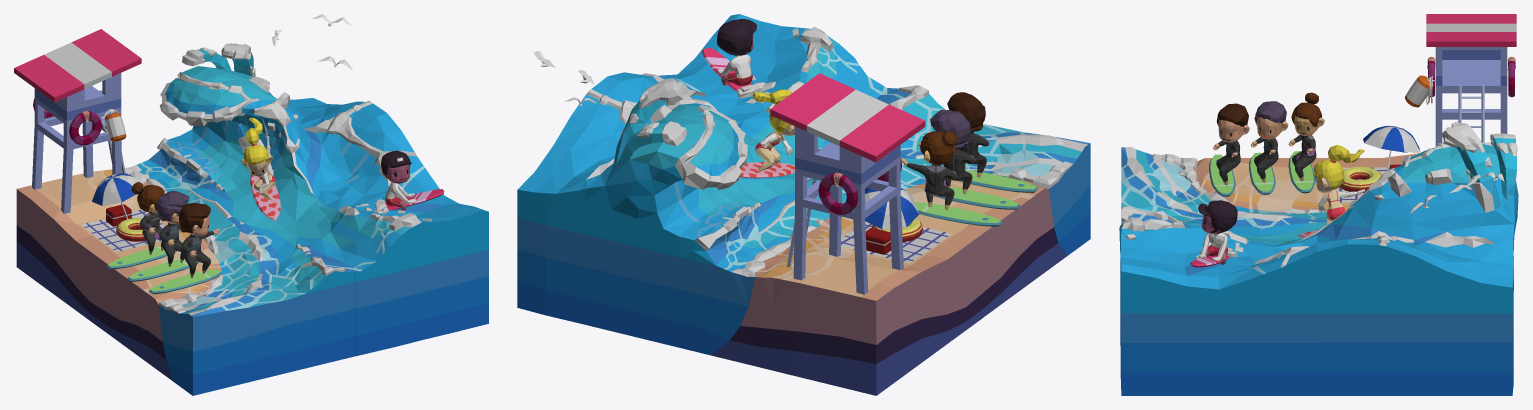
File: 0049_surfing.fbx
3 renders of one model, left to right at view 1: azimuth 30°, elevation 25°; view 2: azimuth 150°, elevation 25°; view 3: azimuth 270°, elevation 25°, orthographic. The views are drawn at different scales.
Parts seen in each view (by area): view 1: Sea_C, Sea_D, Sea_A, Sea_B, machan_1, Surfboard_green (×3), parasol_2, Mat, woman_B_Head, Man_A_Head, Man_C_Head, Man_B_Head (+11 smaller); view 2: Sea_B, Sea_A, Sea_C, machan_1, Sea_D, Surfboard_green (×3), Sea_F, Sea_E, Mat, Man_C_Head, parasol_2, Tube (+11 smaller); view 3: Sea_A, Sea_D, Sea_C, machan_1, Sea_F, Surfboard_green (×3), woman_B_Head, Sea_E, parasol_2, Man_C_Head, Man_A_Head, Man_B_Head (+9 smaller).
Boxes of the visible parts, x1,y1,x2,y2 form: Sea_C: [104, 215, 355, 395]; Sea_D: [275, 129, 488, 356]; Sea_A: [159, 66, 400, 205]; Sea_B: [16, 136, 264, 331]; machan_1: [14, 29, 141, 213]; Surfboard_green (×3): [106, 246, 221, 294]; parasol_2: [92, 173, 143, 205]; Mat: [81, 209, 179, 251]; woman_B_Head: [240, 117, 272, 176]; Man_A_Head: [179, 203, 210, 235]; Man_C_Head: [381, 150, 411, 183]; Man_B_Head: [156, 190, 189, 223]; Sea_B: [679, 175, 983, 395]; Sea_A: [517, 72, 785, 347]; Sea_C: [786, 85, 1090, 316]; machan_1: [770, 73, 925, 294]; Sea_D: [624, 14, 892, 165]; Surfboard_green (×3): [915, 169, 1037, 226]; Sea_F: [614, 78, 687, 164]; Sea_E: [617, 121, 686, 166]; Mat: [841, 221, 951, 262]; Man_C_Head: [717, 19, 756, 55]; parasol_2: [865, 188, 919, 229]; Tube: [818, 172, 858, 214]; Sea_A: [1317, 142, 1518, 395]; Sea_D: [1119, 217, 1317, 395]; Sea_C: [1121, 147, 1317, 239]; machan_1: [1426, 14, 1516, 146]; Sea_F: [1441, 121, 1501, 212]; Surfboard_green (×3): [1209, 151, 1315, 196]; woman_B_Head: [1313, 145, 1364, 192]; Sea_E: [1490, 133, 1517, 200]; parasol_2: [1363, 125, 1420, 152]; Man_C_Head: [1198, 200, 1237, 233]; Man_A_Head: [1216, 103, 1249, 142]; Man_B_Head: [1254, 101, 1288, 139].
Bounding box in the file's own units: 13.51 × 8.93 × 13.44.
